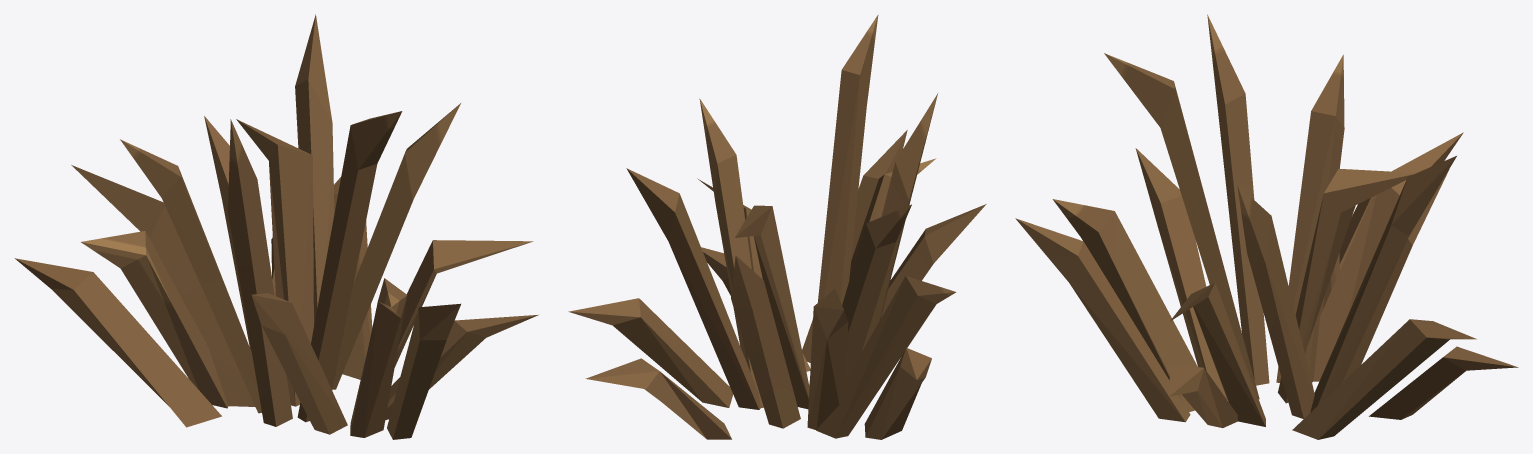
Rendered from SM_Env_Plant_Grass_02.obj.
3 renders of one model, left to right at view 1: azimuth 30°, elevation 25°; view 2: azimuth 150°, elevation 25°; view 3: azimuth 270°, elevation 25°, orthographic. The views are drawn at different scales.
Visible parts, largest first — view 1: SM_Env_Plant_Grass_02_0; view 2: SM_Env_Plant_Grass_02_0; view 3: SM_Env_Plant_Grass_02_0.
Boxes of the visible parts, left/top/right/bottom form: SM_Env_Plant_Grass_02_0: left=15, top=14, right=538, bottom=439; SM_Env_Plant_Grass_02_0: left=568, top=14, right=986, bottom=439; SM_Env_Plant_Grass_02_0: left=1015, top=14, right=1518, bottom=439.
Bounding box in the file's own units: 0.8004 × 0.708 × 0.9289.
Materials: 1 (1 with a texture image).
